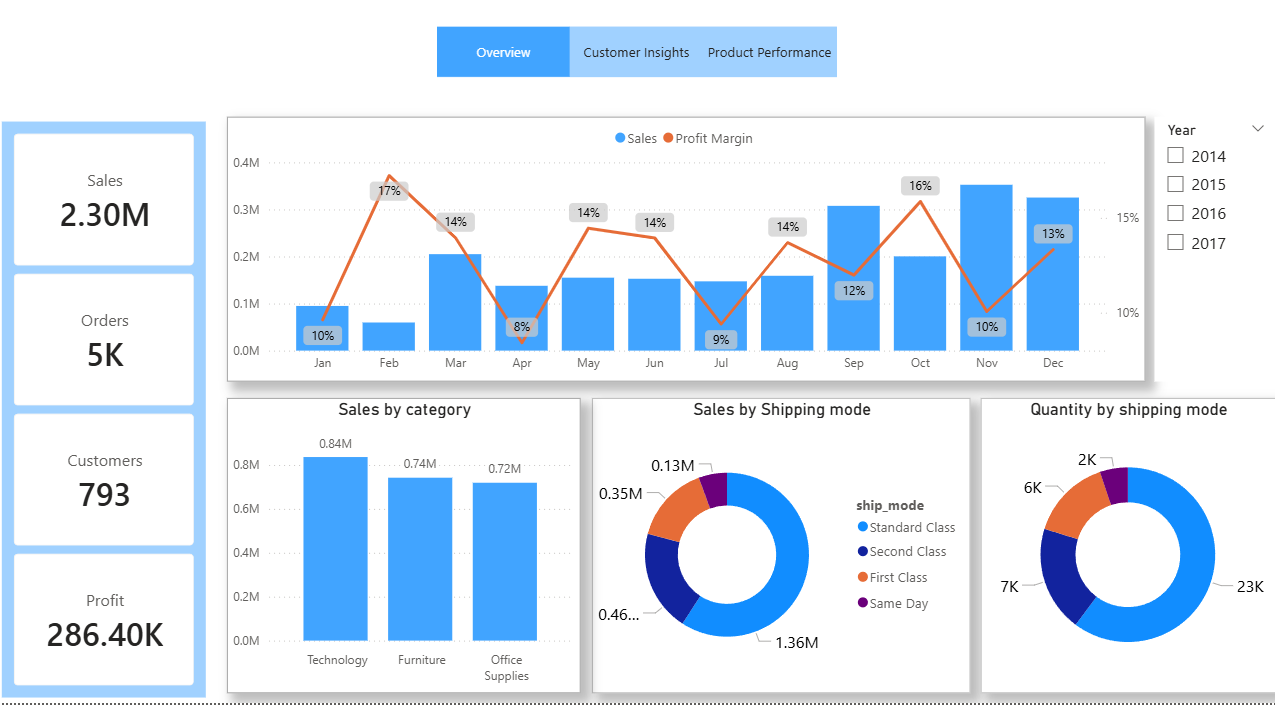

This screenshot's page, from the dashboard's own definition file:
{"tool":"powerbi","page":{"name":"Overview","canvas":[1280,720],"ordinal":0},"visuals":[{"type":"lineStackedColumnComboChart","fields":{"Category":["Date.Month Short"],"Y":["Sum(orders.sales)"],"Y2":["orders.Profit Margin"]},"box":[230.4,133.3,743.5,265.2],"z":0},{"type":"donutChart","title":"Sales by Shipping mode","fields":{"Category":["orders.ship_mode"],"Y":["Sum(orders.sales)"]},"box":[595.5,414.5,377.9,305.7],"z":1000},{"type":"donutChart","title":"Quantity by shipping mode","fields":{"Category":["orders.ship_mode"],"Y":["Sum(orders.quantity)"]},"box":[983.2,414.5,295.9,305.7],"z":2000},{"type":"columnChart","title":"Sales by category","fields":{"Category":["orders.category"],"Y":["Sum(orders.sales)"]},"box":[229.9,414.5,353.4,305.7],"z":3000},{"type":"pageNavigator","box":[440.6,43.5,400,50.7],"z":4000},{"type":"cardVisual","fields":{"Data":["orders.Total Sales","orders.Total Orders","orders.Total Customers","Sum(orders.profit)"]},"box":[0,133.3,214.5,587],"z":5000},{"type":"slicer","fields":{"Values":["Date.Year"]},"box":[982.6,133.3,94.2,265.2],"z":6000},{"type":"slicer","fields":{"Values":["orders.category"]},"box":[1076.8,134.8,202.9,265.2],"z":7000}]}

Visuals, with their boxes in screenshot pixels (x1, y1, x2, y2), scaled from the page's 1280x720 canvas onto the 1275x705 screenshot:
lineStackedColumnComboChart - Date.Month Short x Sum(orders.sales): crop(230, 131, 970, 390)
"Sales by Shipping mode" donutChart: crop(593, 406, 970, 704)
"Quantity by shipping mode" donutChart: crop(979, 406, 1274, 704)
"Sales by category" columnChart: crop(229, 406, 581, 704)
pageNavigator: crop(439, 43, 837, 92)
cardVisual - orders.Total Sales x orders.Total Orders: crop(0, 131, 214, 704)
slicer - Date.Year: crop(979, 131, 1073, 390)
slicer - orders.category: crop(1073, 132, 1274, 392)
